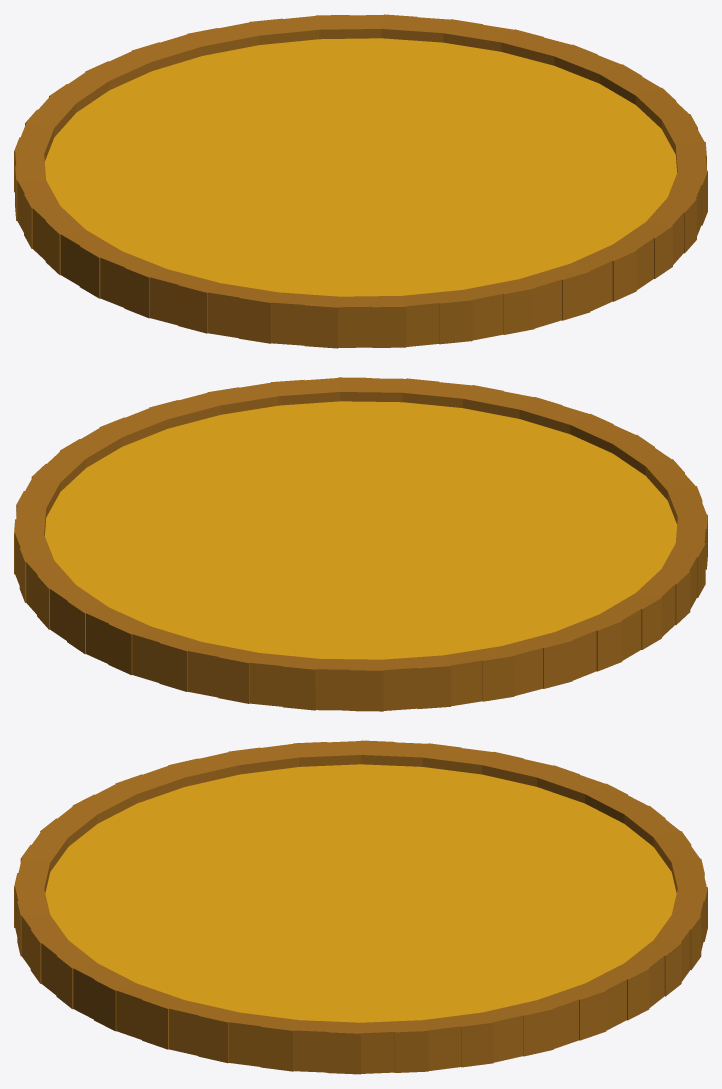
File: Coin.fbx
3 renders of one model, top to bottom at view 1: azimuth 30°, elevation 25°; view 2: azimuth 150°, elevation 25°; view 3: azimuth 270°, elevation 25°, orthographic.
Visible parts, largest first — view 1: Cylinder; view 2: Cylinder; view 3: Cylinder.
Part boxes in pixels (x1,y1,x2,y2): Cylinder: (14,14,707,348); Cylinder: (14,377,707,711); Cylinder: (14,740,707,1074).
Bounding box in the file's own units: 291 × 18.86 × 291.
